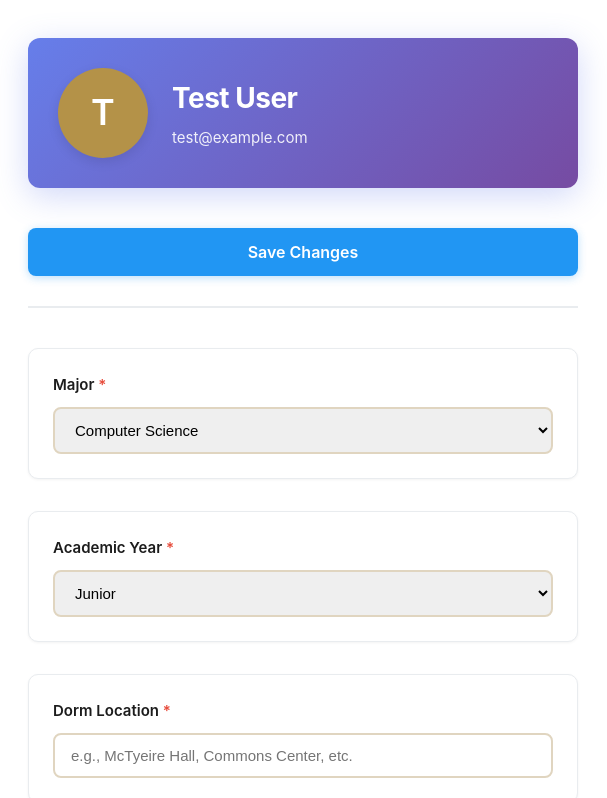
it: ProfilePage › validates dorm location minimum length
The image size is (607, 798).
Set dorm to single character
Type "A" into the field labelled "Dorm Location *".
click(303, 756); type("A")  # box [53,733,553,778]
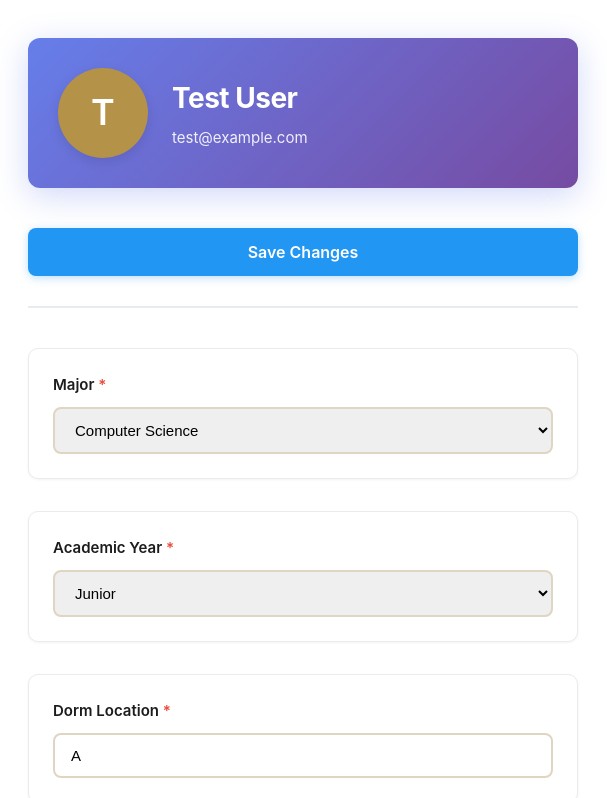
Click the button "Save Changes".
click(303, 252)  # box [28,228,578,276]
(page scrolled)
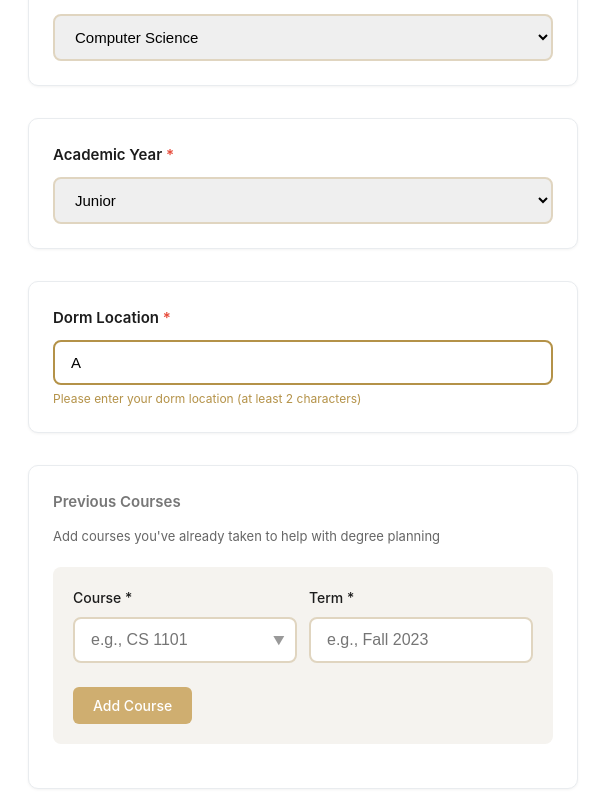
Expected: the text "Please enter your dorm location (at least 2 characters)" is shown, [53,391,361,406]
